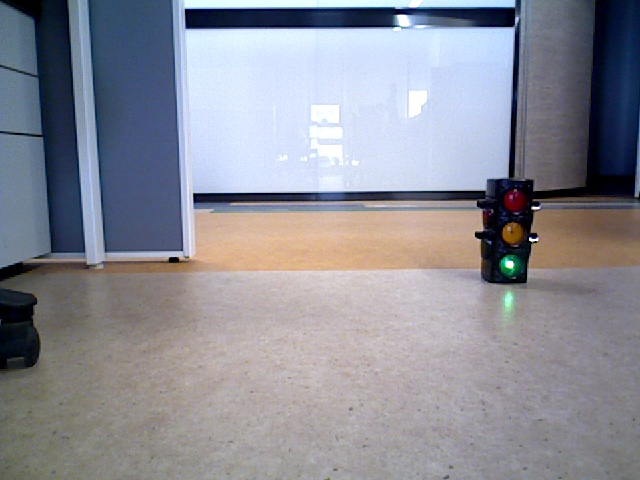green: (489, 181, 526, 281)
